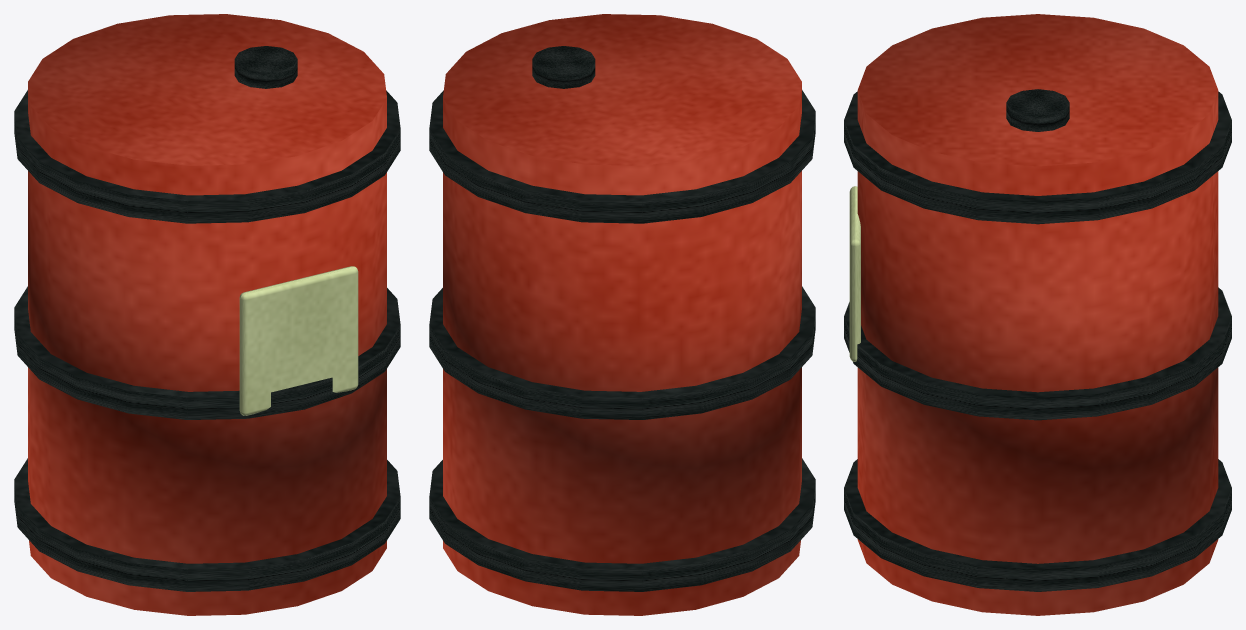
Rendered from fuelDrum.glb.
3 views of the same model, side by side, from view 1: azimuth 30°, elevation 25°; view 2: azimuth 150°, elevation 25°; view 3: azimuth 270°, elevation 25° (orthographic).
Parts seen in each view (by area): view 1: Fuel drum, Warning diamond, Drum rib.002, Drum rib, Drum rib.001, Filler cap; view 2: Fuel drum, Drum rib.002, Drum rib, Drum rib.001, Filler cap; view 3: Fuel drum, Drum rib, Drum rib.002, Drum rib.001, Filler cap, Warning diamond.
Boxes of the visible parts, left/top/right/bottom form: Fuel drum: left=28, top=14, right=386, bottom=615; Warning diamond: left=239, top=266, right=358, bottom=415; Drum rib.002: left=14, top=90, right=400, bottom=223; Drum rib: left=14, top=458, right=400, bottom=591; Drum rib.001: left=14, top=286, right=400, bottom=419; Filler cap: left=234, top=46, right=297, bottom=88; Fuel drum: left=443, top=14, right=801, bottom=615; Drum rib.002: left=429, top=90, right=815, bottom=223; Drum rib: left=429, top=458, right=815, bottom=591; Drum rib.001: left=429, top=286, right=815, bottom=419; Filler cap: left=532, top=46, right=595, bottom=88; Fuel drum: left=857, top=14, right=1218, bottom=615; Drum rib: left=844, top=459, right=1231, bottom=591; Drum rib.002: left=844, top=91, right=1231, bottom=224; Drum rib.001: left=844, top=287, right=1231, bottom=420; Filler cap: left=1006, top=89, right=1069, bottom=131; Warning diamond: left=849, top=186, right=860, bottom=361.
Size of the model in its own units: 0.86 by 1.14 by 0.86.
Materials: 3 (3 with a texture image).
